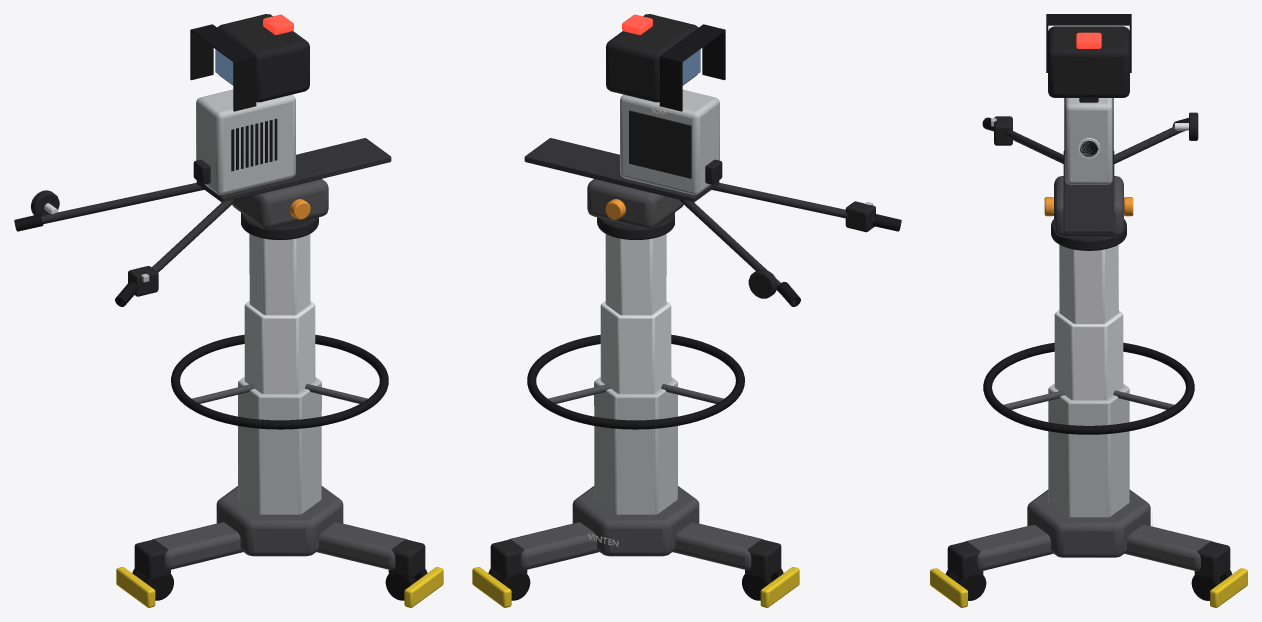
File: sony_hdc_estudio_pedestal_estudio.glb
3 views of the same model, side by side, from view 1: azimuth 30°, elevation 25°; view 2: azimuth 150°, elevation 25°; view 3: azimuth 270°, elevation 25° (orthographic). The views are drawn at different scales.
Parts seen in each view (by area): view 1: Sony HDC de estudio en pedestal de estudio; view 2: Sony HDC de estudio en pedestal de estudio; view 3: Sony HDC de estudio en pedestal de estudio.
Boxes of the visible parts, box(x1,y1,x2,y2) form: Sony HDC de estudio en pedestal de estudio: box(14, 14, 443, 607); Sony HDC de estudio en pedestal de estudio: box(472, 14, 901, 607); Sony HDC de estudio en pedestal de estudio: box(930, 14, 1247, 607).
Size of the model in its own units: 1.11 by 1.84 by 1.
